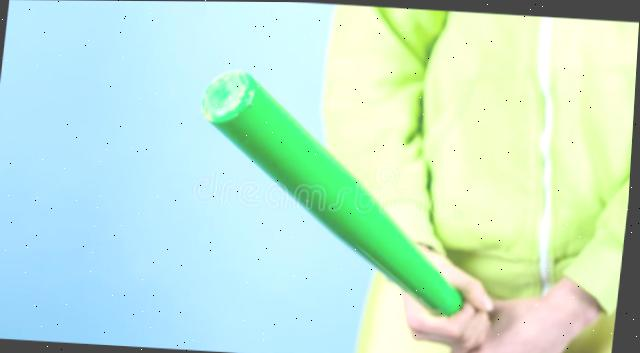baseball bat: (179, 64, 583, 353)
